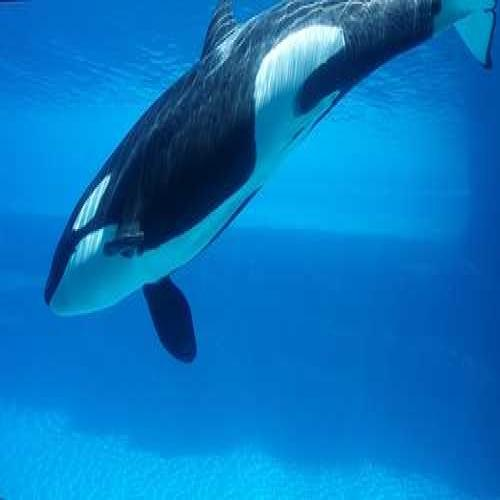killer_whale-endangered: (36, 0, 497, 372)
